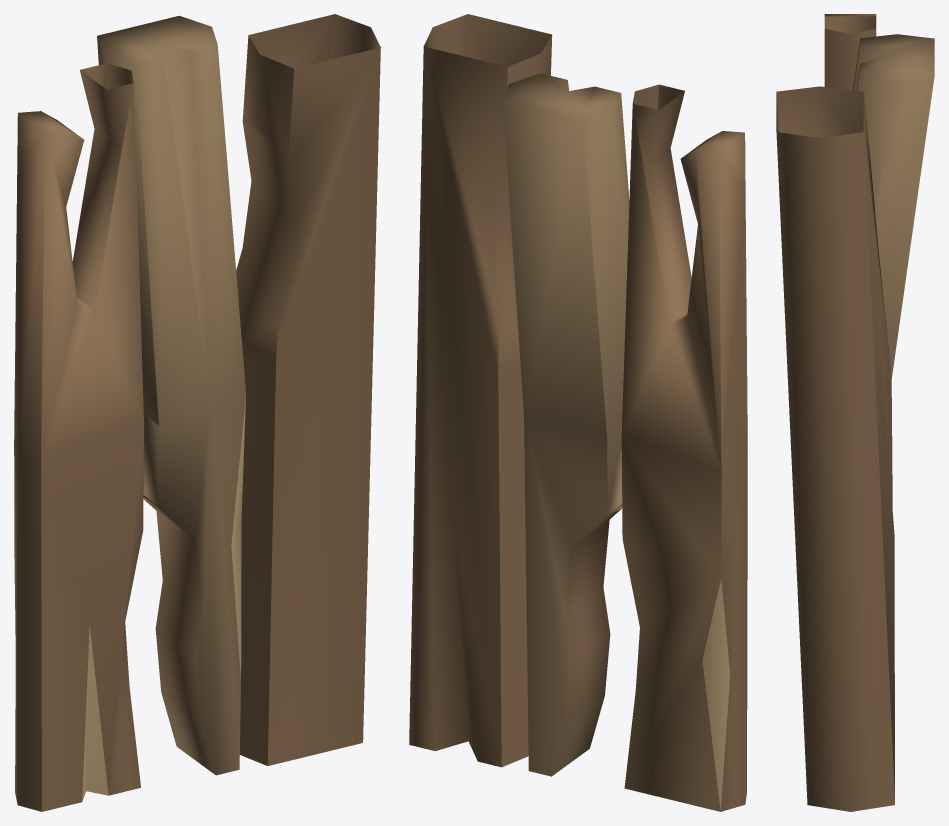
The model's file is rpgpp_av_wall_02_1.5x3_b.fbx.
3 renders of one model, left to right at view 1: azimuth 30°, elevation 25°; view 2: azimuth 150°, elevation 25°; view 3: azimuth 270°, elevation 25°, orthographic. The views are drawn at different scales.
Parts seen in each view (by area): view 1: rpgpp_av_wall_02_1.5x3_b; view 2: rpgpp_av_wall_02_1.5x3_b; view 3: rpgpp_av_wall_02_1.5x3_b.
Boxes of the visible parts, x1,y1,x2,y2 form: rpgpp_av_wall_02_1.5x3_b: (14,14,380,811); rpgpp_av_wall_02_1.5x3_b: (409,14,747,811); rpgpp_av_wall_02_1.5x3_b: (776,14,934,811).
Bounding box in the file's own units: 1.5 × 3 × 0.6377.
